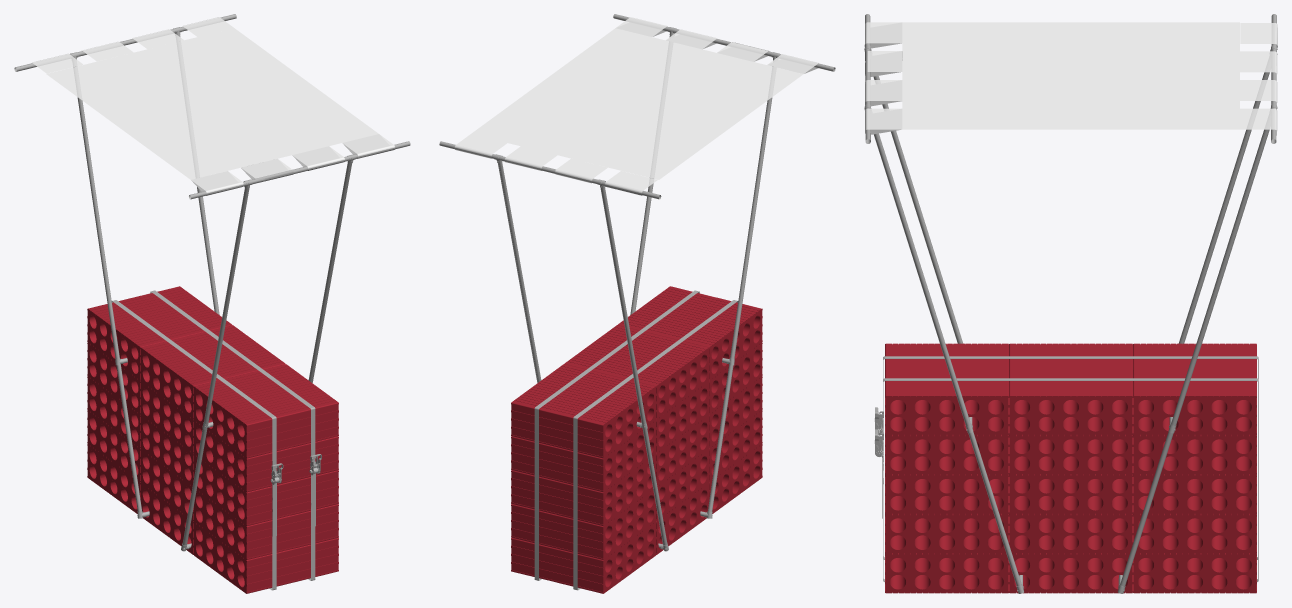
3 renders of one model, left to right at view 1: azimuth 30°, elevation 25°; view 2: azimuth 150°, elevation 25°; view 3: azimuth 270°, elevation 25°, orthographic. The views are drawn at different scales.
Parts seen in each view (by area): view 1: brick (×22), object 1, object 2; view 2: brick (×22), object 1, object 2; view 3: brick (×18), object 1, object 2.
Boxes of the visible parts, x1,y1,x2,y2 form: brick (×22): [87, 286, 338, 593]; object 1: [46, 28, 378, 482]; object 2: [14, 14, 410, 590]; brick (×22): [511, 286, 762, 593]; object 1: [471, 28, 803, 179]; object 2: [439, 14, 835, 590]; brick (×18): [885, 343, 1256, 593]; object 1: [867, 22, 1239, 456]; object 2: [864, 14, 1277, 586].
Size of the model in its own units: 1.19 by 2.19 by 1.66.
